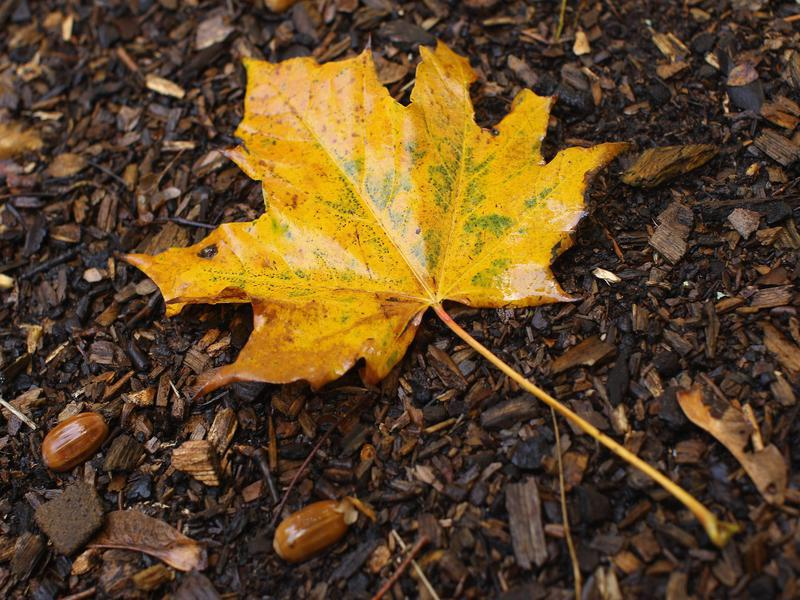leaf: (114, 30, 717, 535)
